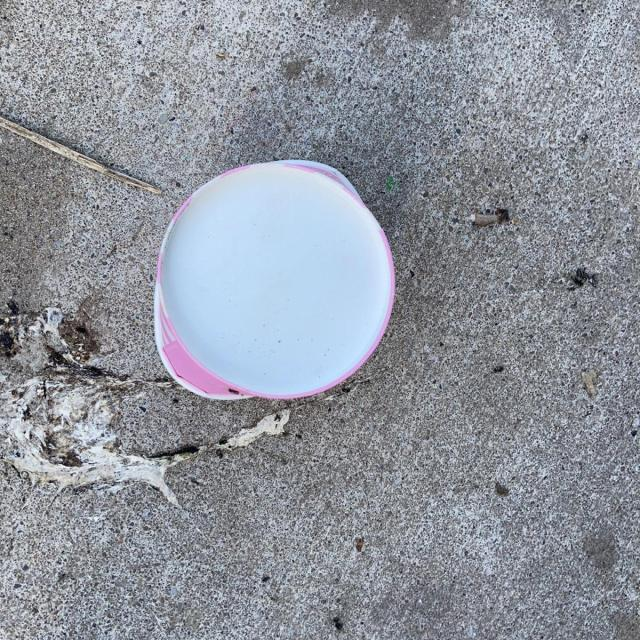Paper: (150, 157, 398, 406)
